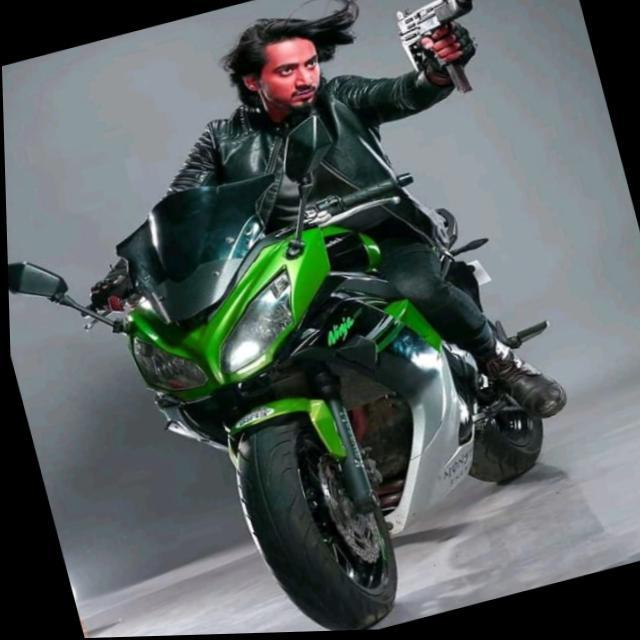weapon: (382, 0, 515, 113)
